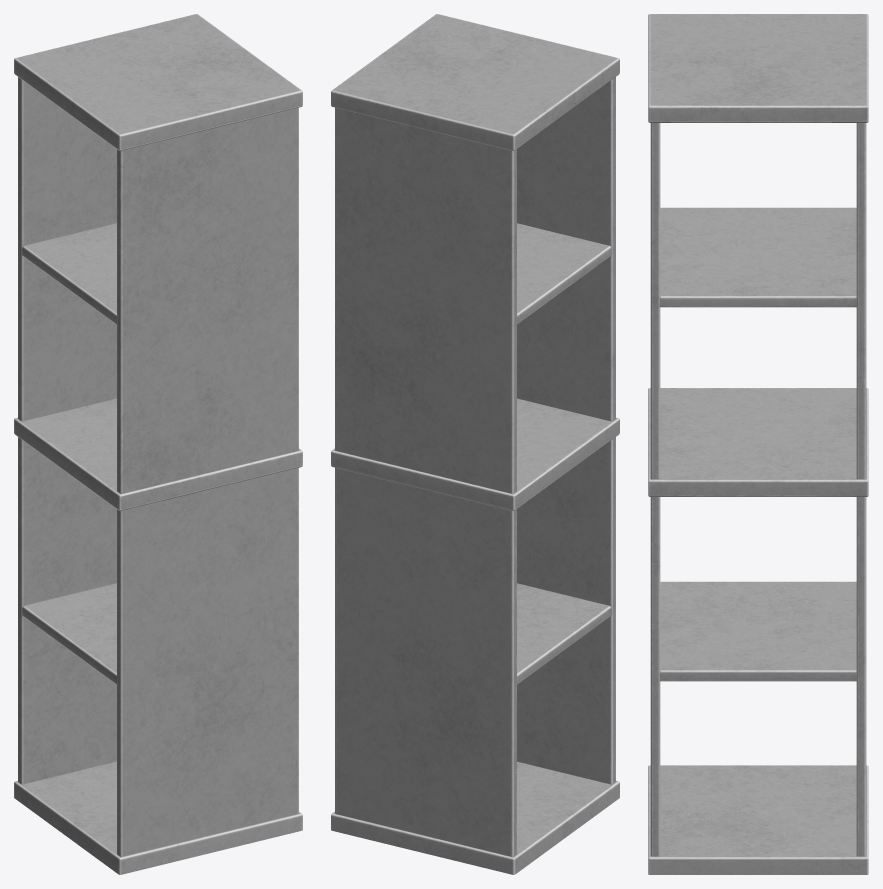
File: Wcapboard.glb
The picture shows the model from 3 angles, left to right: view 1: azimuth 30°, elevation 25°; view 2: azimuth 150°, elevation 25°; view 3: azimuth 270°, elevation 25°; orthographic projection. The views are drawn at different scales.
Parts seen in each view (by area): view 1: Cube.013; view 2: Cube.013; view 3: Cube.013.
Part boxes in pixels (box(x1,y1,x2,y2)): Cube.013: box(14, 14, 302, 874); Cube.013: box(331, 14, 619, 874); Cube.013: box(648, 14, 868, 874).
Size of the model in its own units: 0.2529 by 0.9719 by 0.2529.
Materials: 1 (1 with a texture image).
